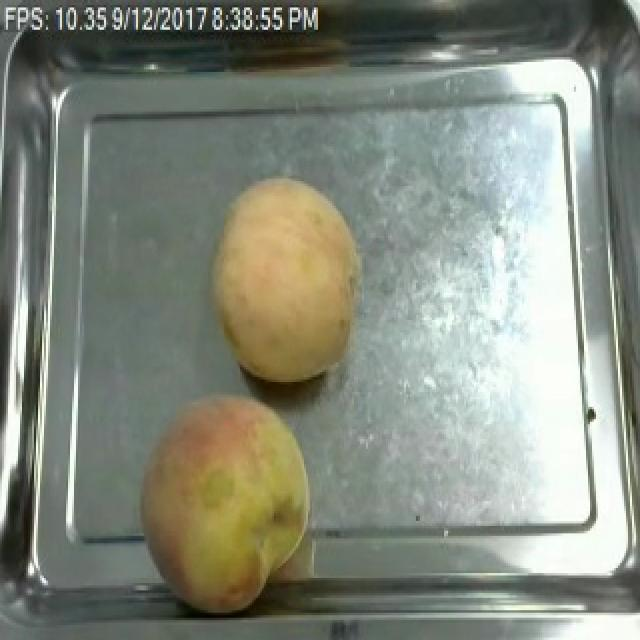Fruit: (136, 384, 320, 618), (204, 168, 372, 390)
